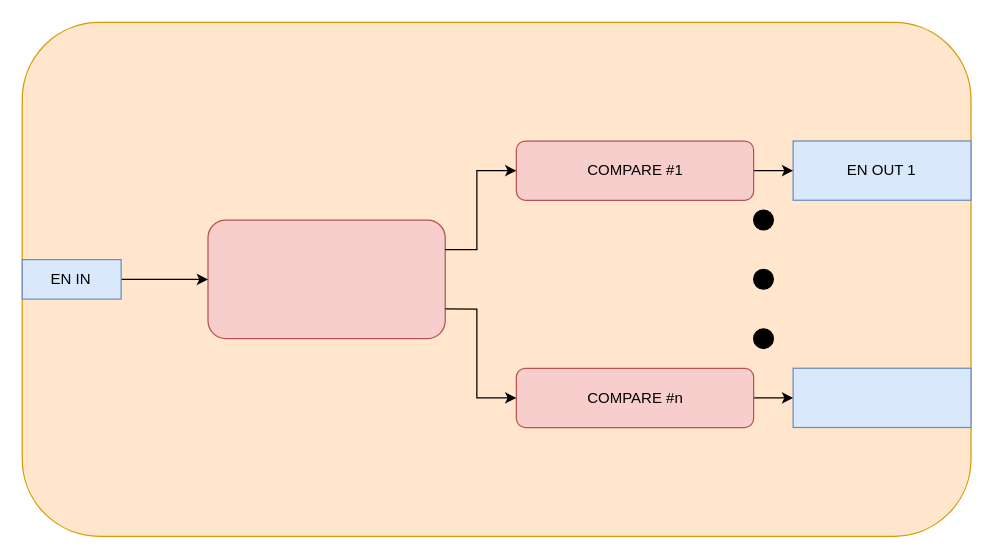
Some shapes in this 993 by 559 pixel diagram are drawn without their labels. Each missing label, with the box of its shape:
EN OUT n: (792, 367, 971, 428)
ENABLE COUNTER: (207, 219, 445, 339)
